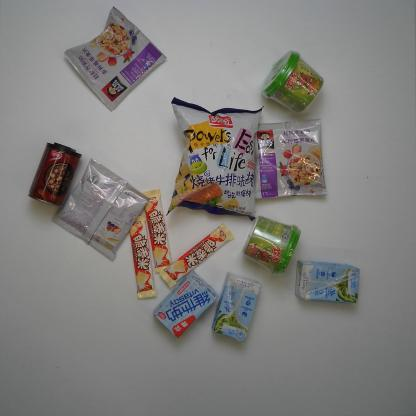Canned Food: (26, 140, 85, 209)
Chocolate: (156, 221, 240, 289), (138, 188, 178, 271), (124, 213, 158, 300)
Instant Drink: (62, 4, 170, 116), (46, 157, 154, 262), (249, 117, 334, 204), (258, 48, 329, 113), (239, 214, 303, 276)
Milk: (148, 273, 221, 339), (209, 269, 266, 344), (296, 260, 364, 306)
Puffed Food: (167, 95, 268, 226)
